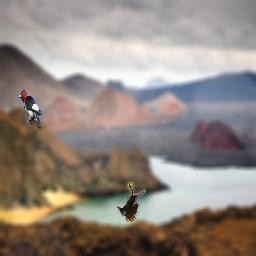Crow: (117, 182, 146, 222)
Woodpecker: (17, 89, 42, 129)
